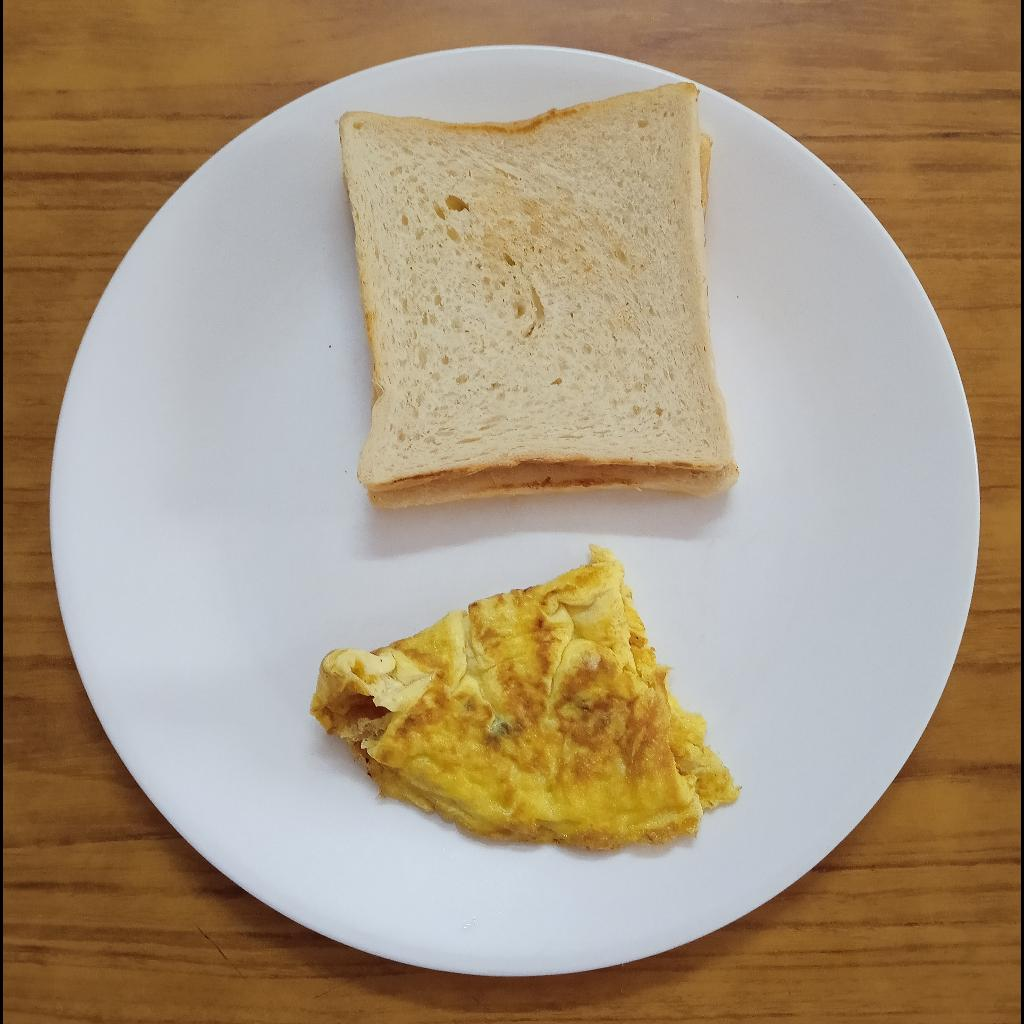bread: (336, 82, 741, 510)
egg-poached: (310, 542, 746, 856)
